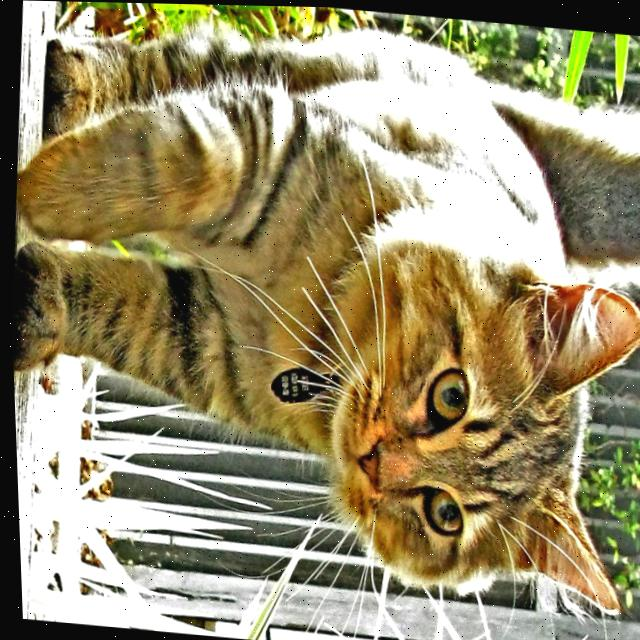American Bobtail: (0, 0, 640, 619)
